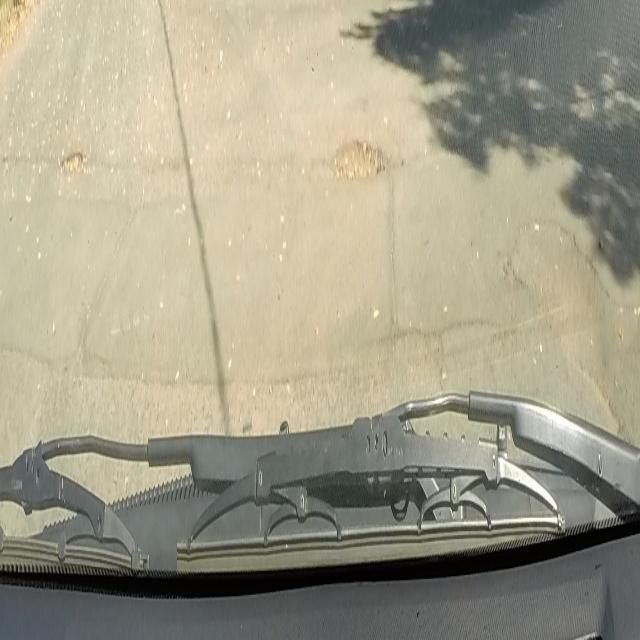pothole: (330, 136, 386, 183), (58, 148, 84, 176)
